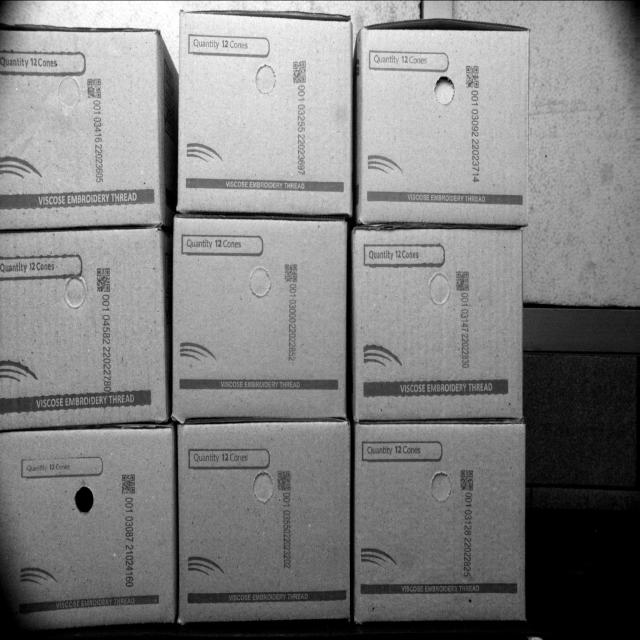cardboxes: (178, 11, 354, 213), (0, 428, 174, 632), (182, 423, 352, 624), (360, 26, 531, 224), (358, 423, 528, 621), (175, 225, 348, 417), (0, 231, 167, 425), (0, 31, 163, 224), (353, 232, 522, 416), (0, 237, 163, 422)
